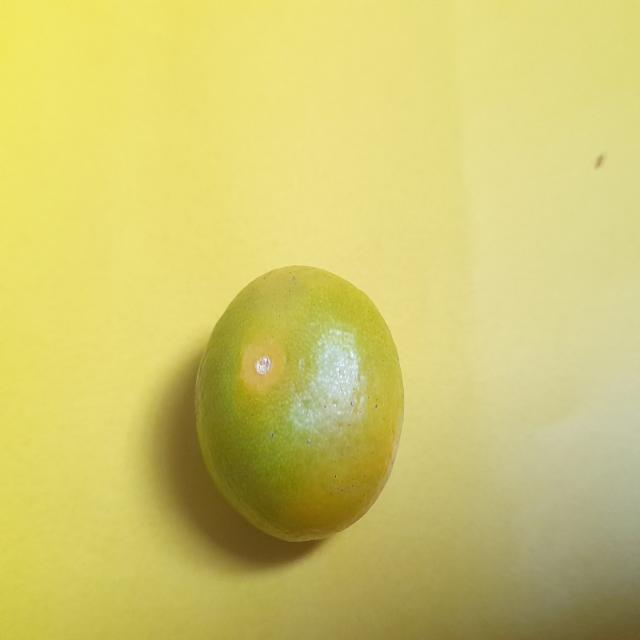greening: (180, 269, 406, 544)
